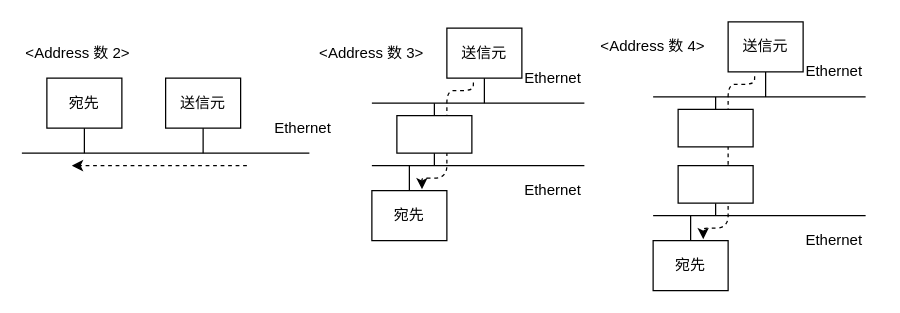
Some shapes in this 900 by 313 pixel diagram are drawn without their labels. Here are the shapes that lost their labels. From the top down, the centre of each, then its label:
At point (434, 133): "Access Point".
At point (715, 127): "Access Point 1".
At point (715, 183): "Access Point 2".
